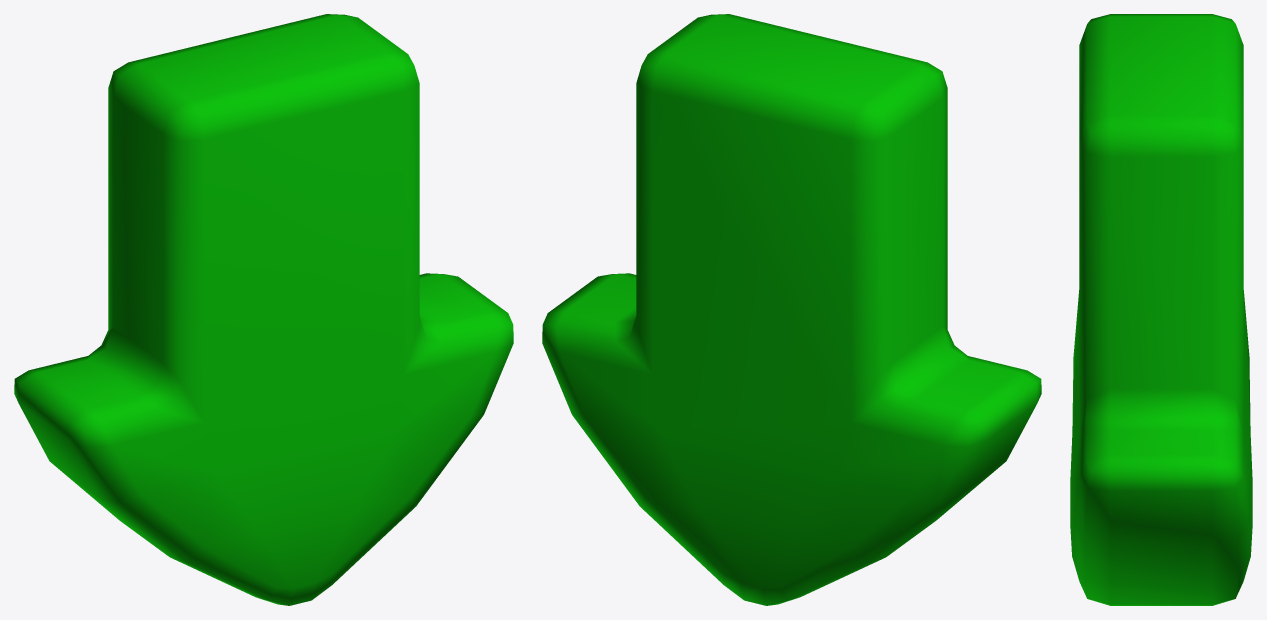
3 views of the same model, side by side, from view 1: azimuth 30°, elevation 25°; view 2: azimuth 150°, elevation 25°; view 3: azimuth 270°, elevation 25° (orthographic).
Parts seen in each view (by area): view 1: jiantou; view 2: jiantou; view 3: jiantou.
Boxes of the visible parts, left/top/right/bottom form: jiantou: left=14, top=14, right=513, bottom=605; jiantou: left=542, top=14, right=1041, bottom=605; jiantou: left=1070, top=14, right=1252, bottom=605.
Size of the model in its own units: 11.61 by 13.24 by 4.09.
